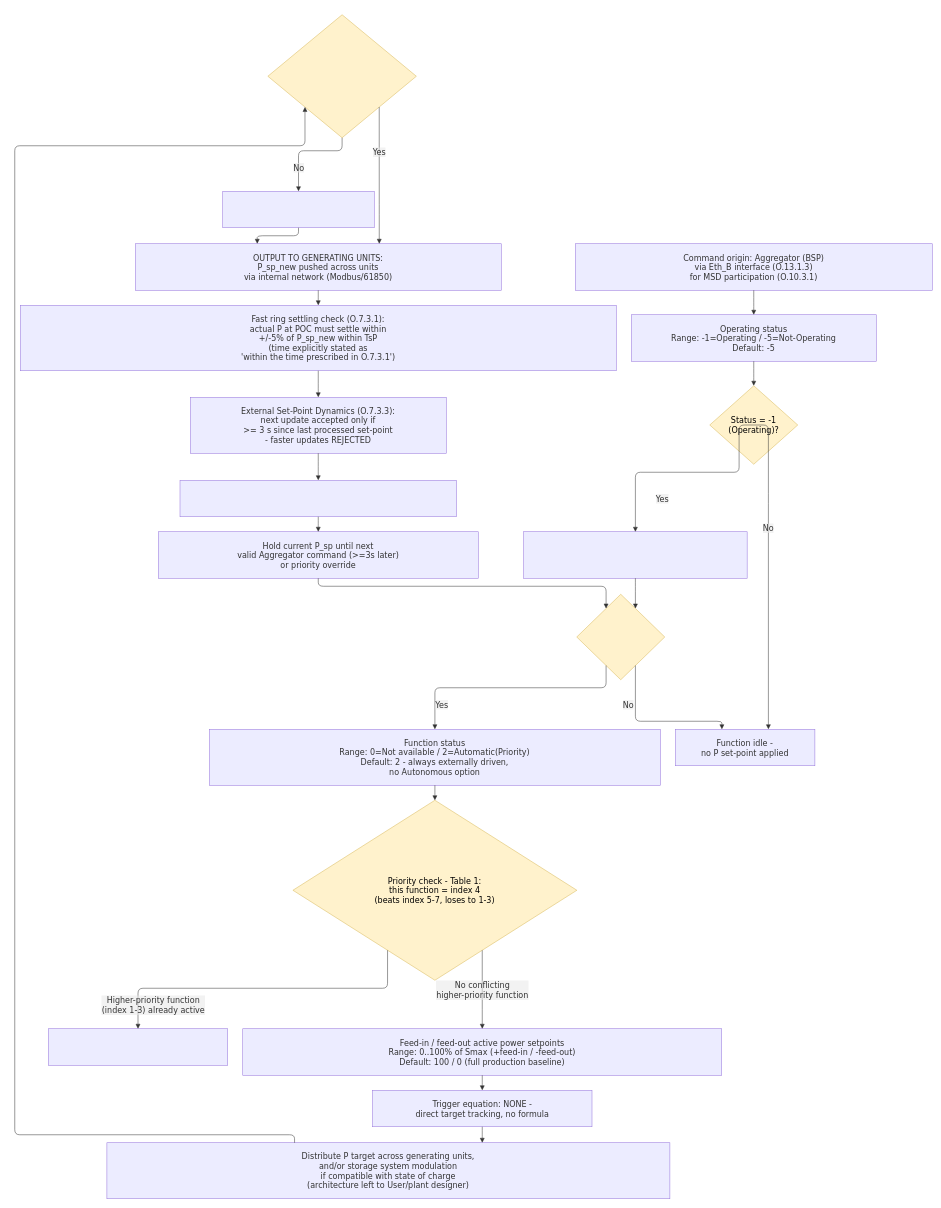
Image size: 941x1208. Some labels were removed from this diagram. The shapes that lost their labels are listed below. From the top down, each one's centre as x and y in pixels, then its label:
At point 341,76: "Can plant capability reach requested P?".
At point 298,209: "Bring plant to closest achievable P value".
At point 318,498: "P measurement fed back to Aggregator (instantaneous P at POC, per O.8.5)".
At point 635,554: "Activation command Range: -5=Inactive / -1=Active Default: -5".
At point 620,637: "Command = -1 (Active)?".
At point 138,1046: "Not activated - existing function stays in control".
